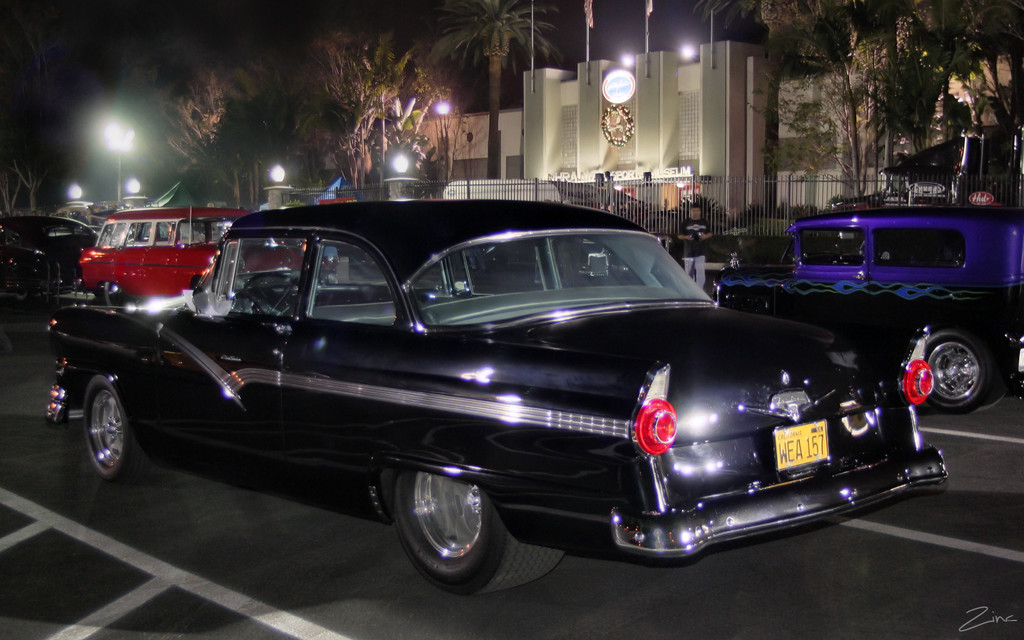Car: (0, 127, 1023, 591)
